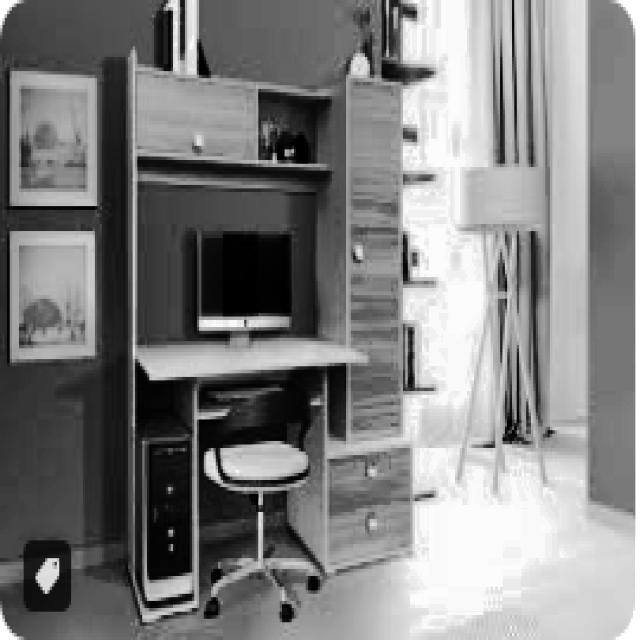book: (201, 377, 320, 619)
table: (138, 334, 329, 608)
